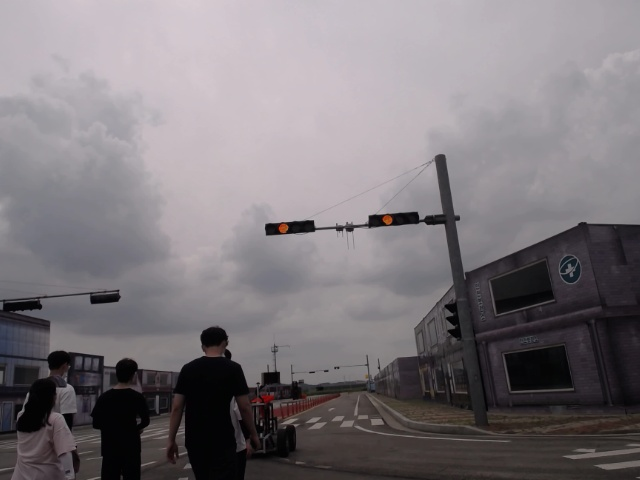orange_4: (366, 211, 422, 229), (262, 220, 317, 236)
